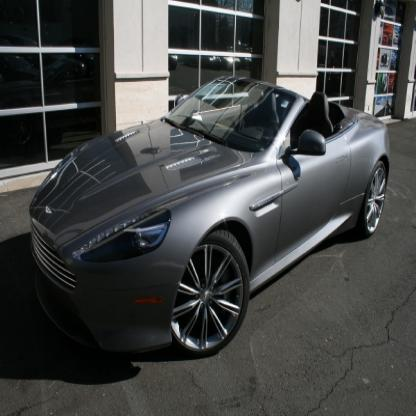Vehicle: (28, 73, 390, 363)
